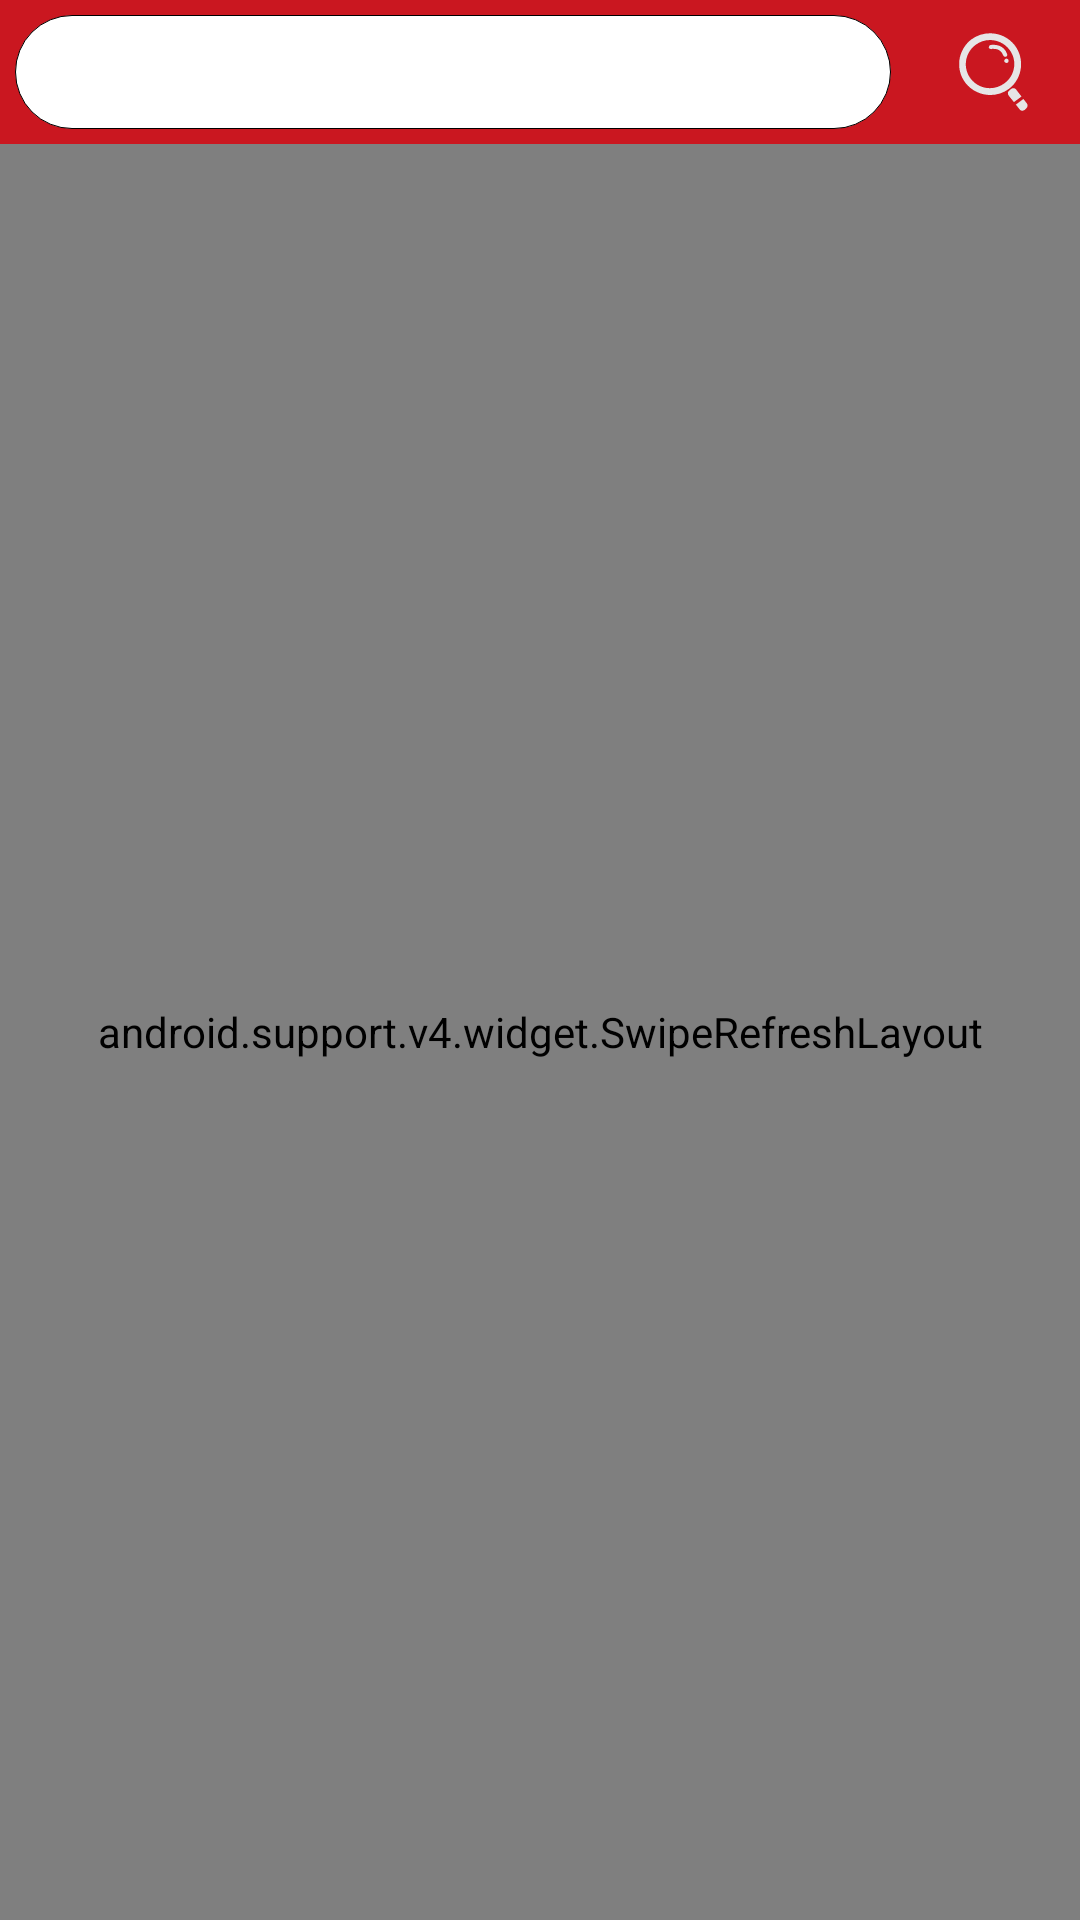

Icons on this 1080×1920 Android screen, each with its box as (x1, y1, x2, y2):
search: (959, 33, 1028, 111)
